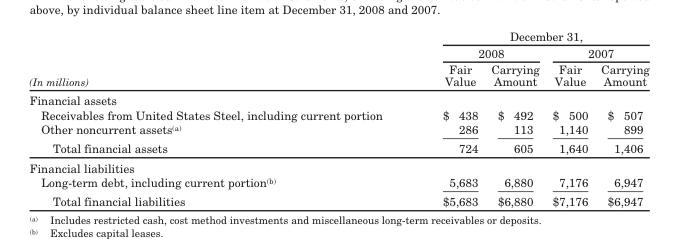table: (28, 28, 648, 207)
table column: (28, 28, 411, 207), (411, 28, 483, 207), (483, 28, 545, 207), (593, 28, 648, 207), (545, 28, 593, 207)
table column header: (28, 28, 648, 90)
table projected row header: (28, 90, 648, 107), (28, 157, 648, 174)
table row: (28, 60, 648, 90), (28, 138, 648, 157), (28, 43, 648, 60), (28, 90, 648, 107), (28, 121, 648, 138), (28, 157, 648, 174), (28, 174, 648, 191), (28, 191, 648, 207), (28, 28, 648, 43), (28, 107, 648, 121)
table spanning cell: (28, 28, 411, 90), (411, 28, 648, 43), (411, 43, 545, 60), (545, 43, 648, 60)
